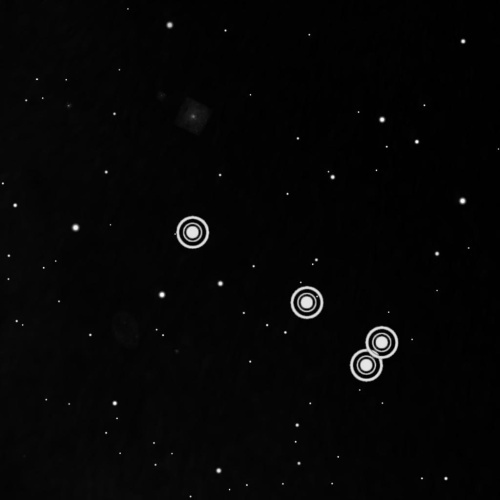sagitta: (170, 207, 405, 387)
